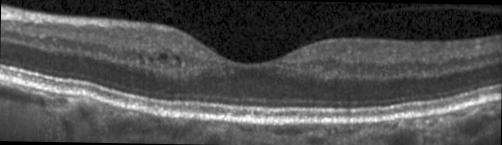intraretinal_cyst: (139, 53, 146, 64), (158, 52, 168, 59), (175, 55, 181, 63), (148, 57, 153, 62)
vitreomacular_traction: (299, 3, 502, 46)
